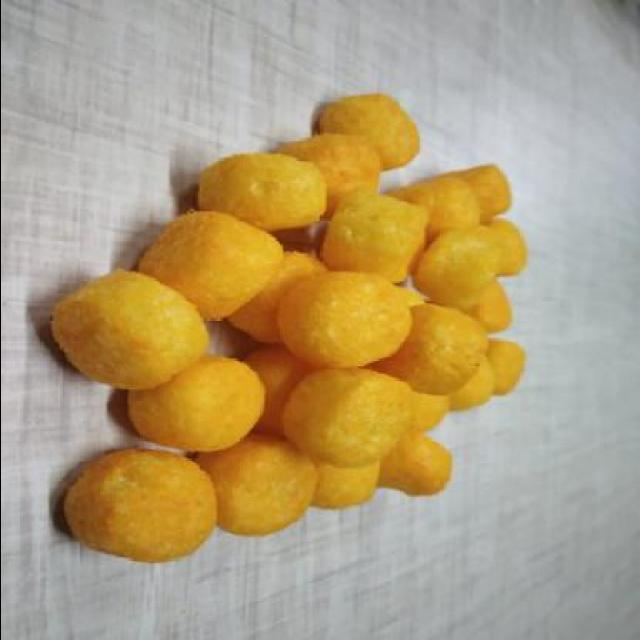Chips packaged: (41, 71, 553, 562)
